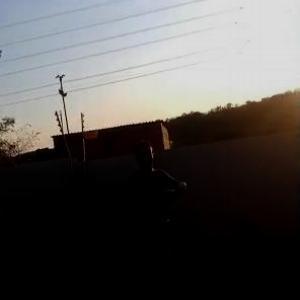follow: (121, 139, 192, 299)
